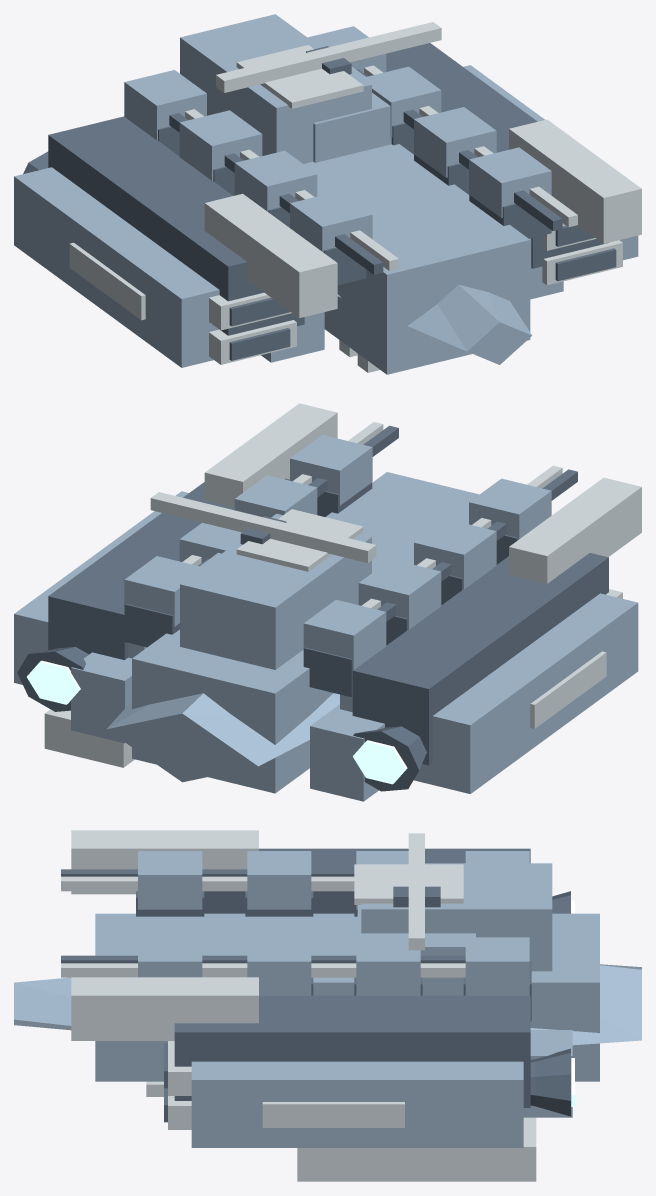
The picture shows the model from 3 angles, top to bottom: view 1: azimuth 30°, elevation 25°; view 2: azimuth 150°, elevation 25°; view 3: azimuth 270°, elevation 25°; orthographic projection.
Size of the model in its own units: 15.58 by 7.09 by 18.41.
